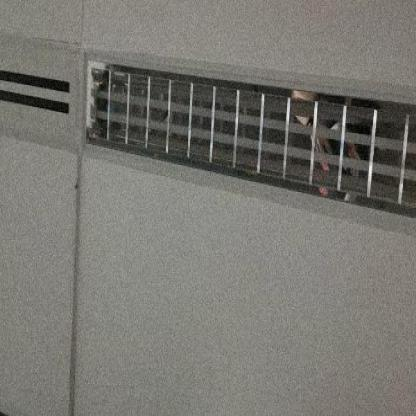light_off: (82, 42, 414, 227)
